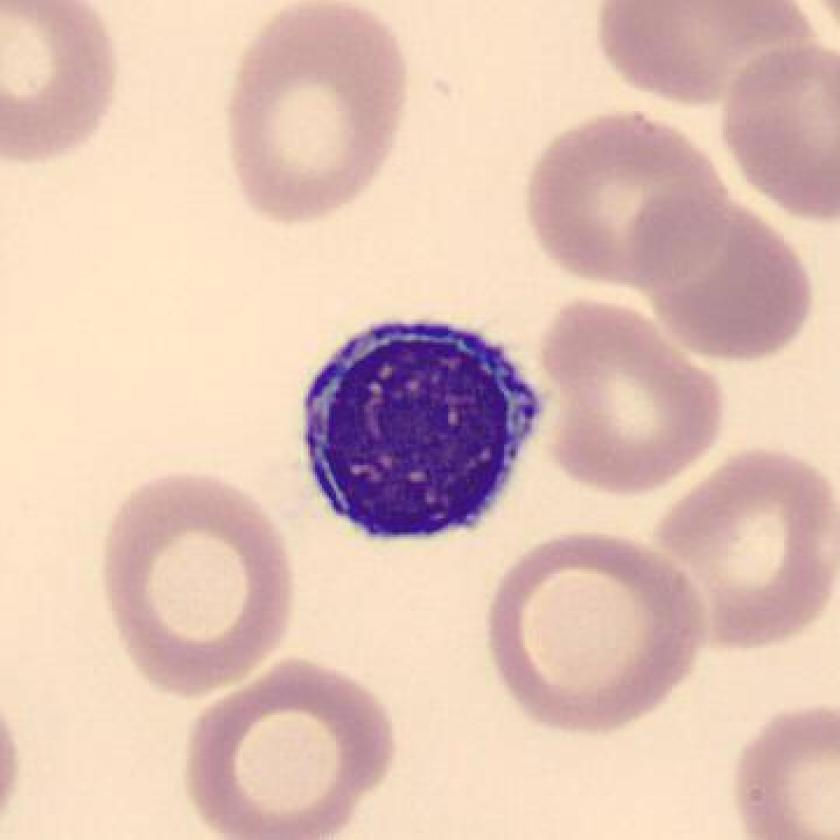lymphocyte: (279, 302, 556, 561)
